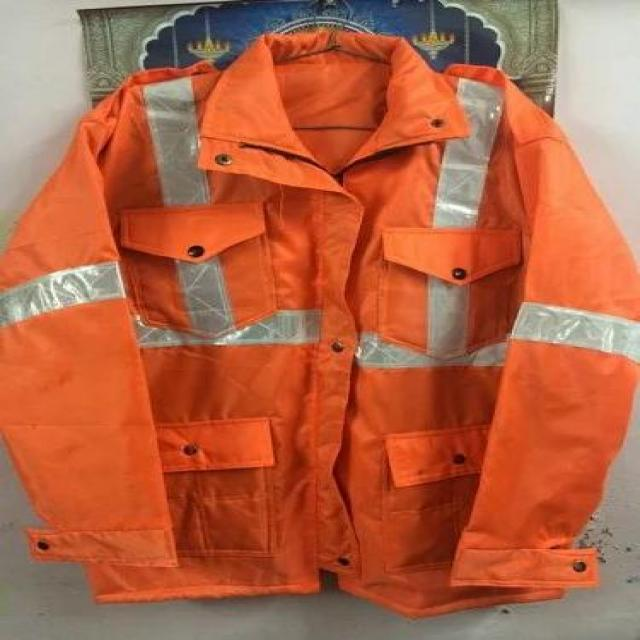Reflective-Jacket: (0, 0, 640, 640), (147, 11, 490, 210)
